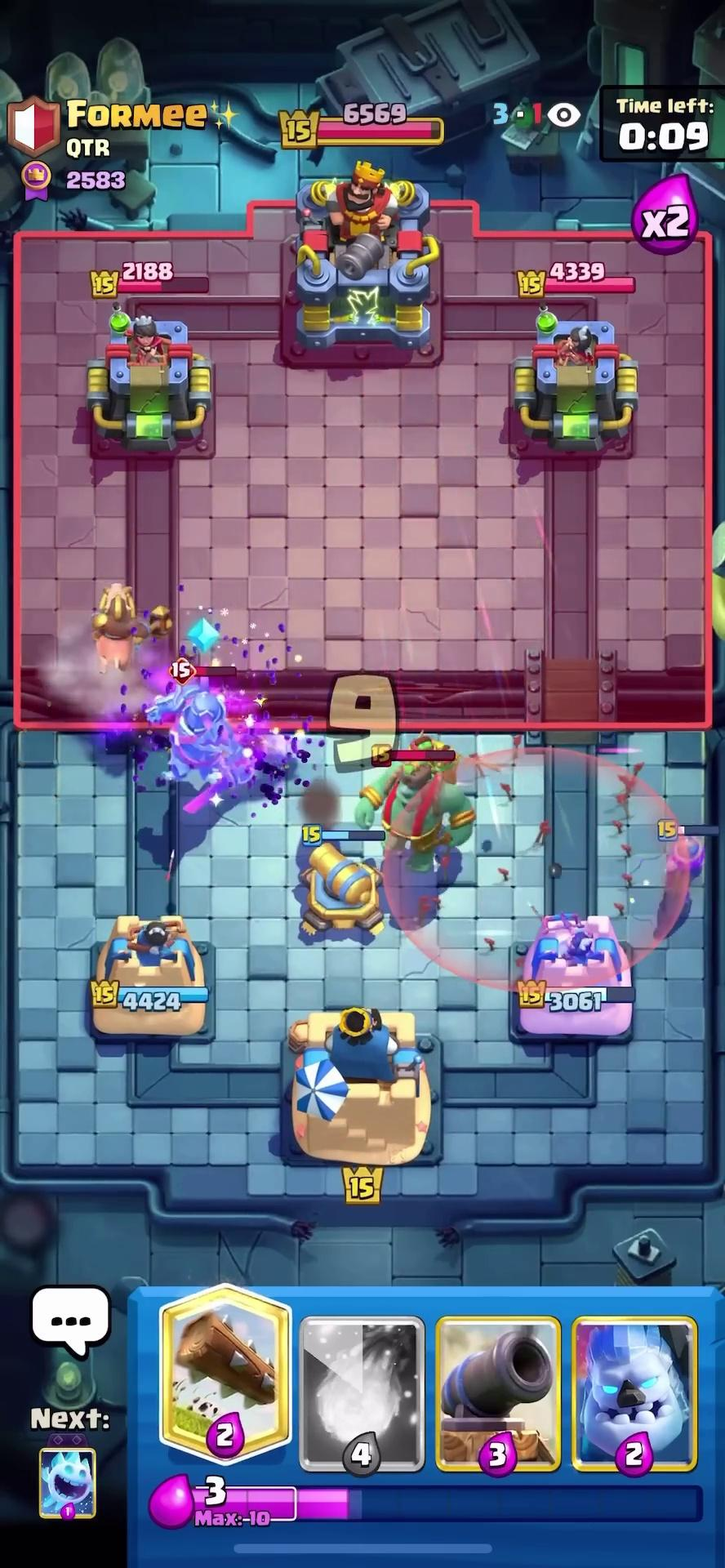cannon: (290, 819, 402, 939)
hog_rider: (63, 576, 171, 668)
musketeer: (647, 815, 725, 894)
